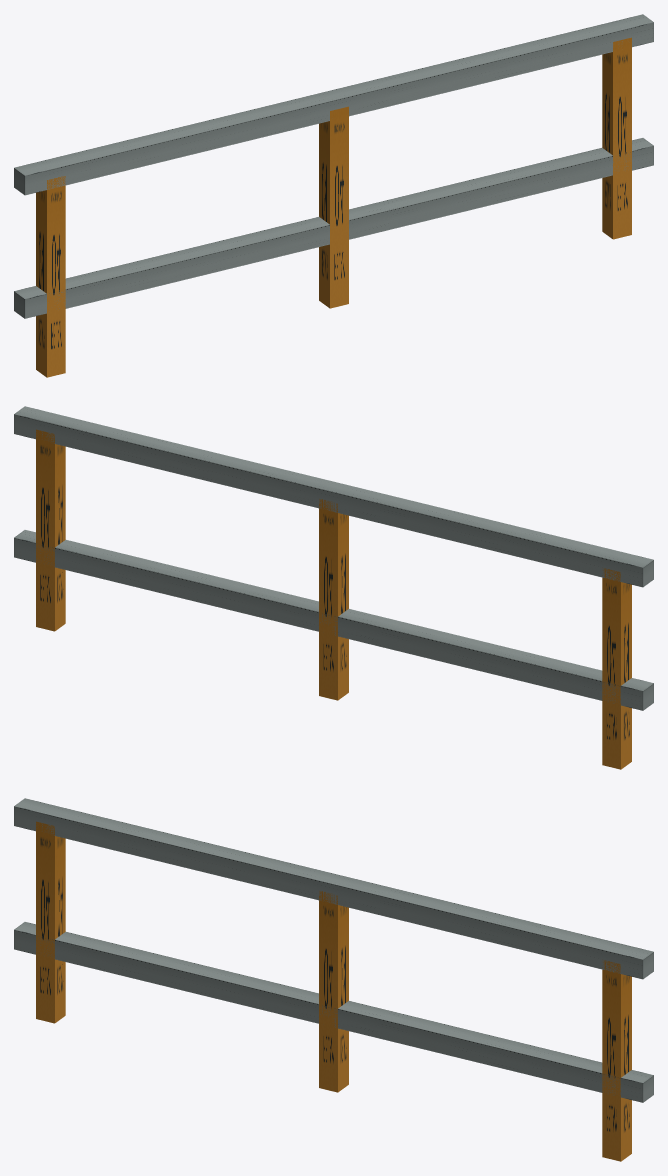
The model's file is railing_4m_LOD2.obj.
3 renders of one model, top to bottom at view 1: azimuth 30°, elevation 25°; view 2: azimuth 150°, elevation 25°; view 3: azimuth 330°, elevation 25°, orthographic.
Parts seen in each view (by area): view 1: L02_railing_4m_LOD2; view 2: L02_railing_4m_LOD2; view 3: L02_railing_4m_LOD2.
Part boxes in pixels (x1,y1,x2,y2): L02_railing_4m_LOD2: (14,14,653,377); L02_railing_4m_LOD2: (14,406,653,769); L02_railing_4m_LOD2: (14,798,653,1161).
Size of the model in its own units: 4 by 1.26 by 0.12.
1 material, 1 textured.
